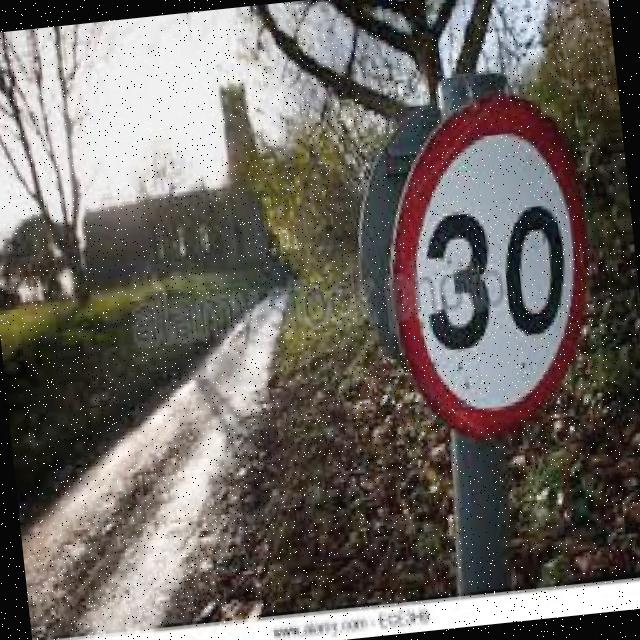Ograniczenie predkosci do 30: (376, 90, 604, 457)
